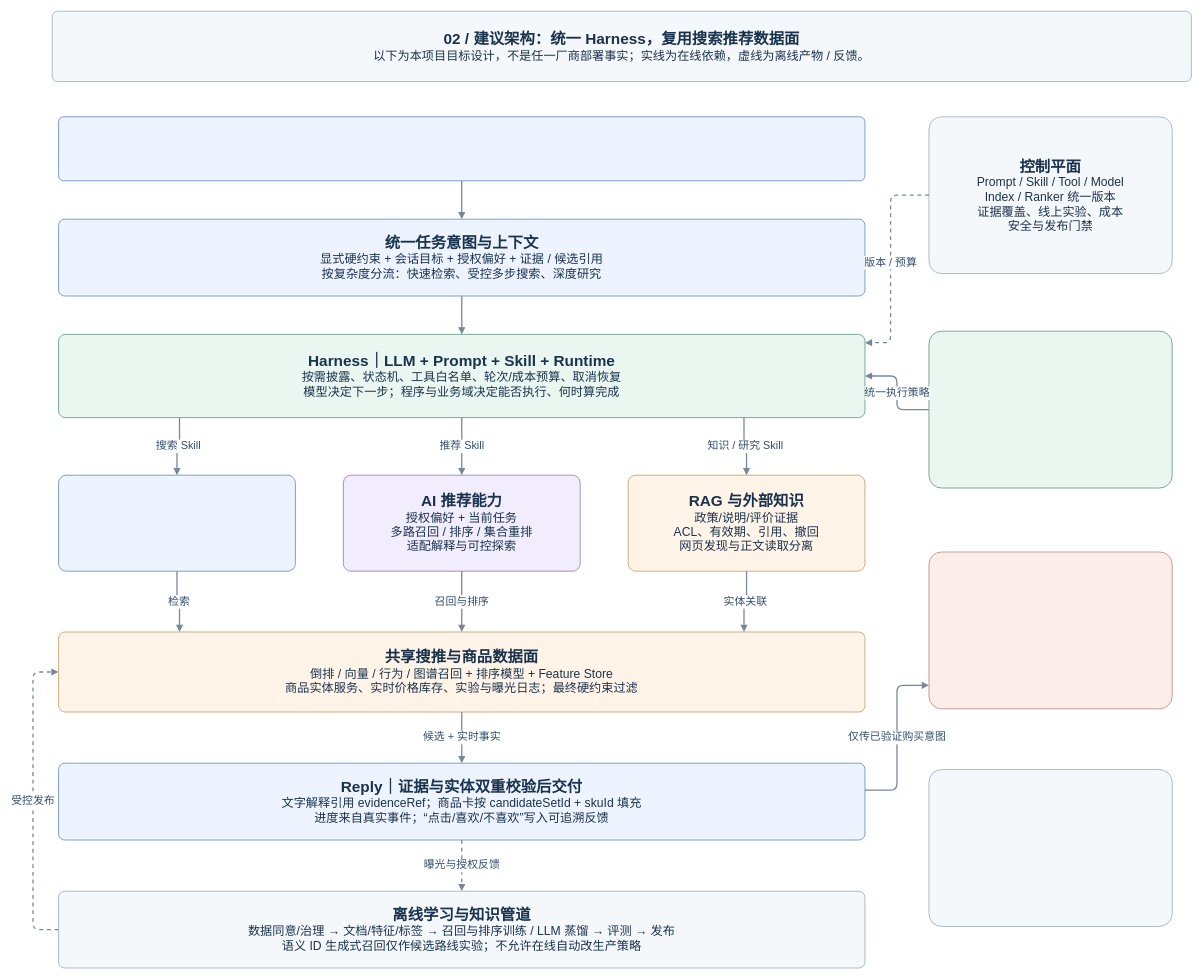
Some shapes in this 1203 by 980 pixel diagram are drawn without their labels. Each missing label, with the box of its shape:
AI 搜索能力 Query Plan / 改写 / 约束编译 商品多路检索、混合检索 证据获取与不足时继续查: (58, 474, 296, 571)
Tool Gateway 所有业务 Tool 调用统一校验 身份、schema、scope 超时、重试、审计与契约 禁止任意数据库/网络访问: (928, 330, 1172, 488)
双指标闭环 检索相关性 / 推荐效用 + 事实一致性 / 安全 + 时延 / 成本 / 长期满意 不只看对话轮次或 CTR: (928, 769, 1172, 927)
消费者入口｜搜索框 / 会话 / 商品页 / 推荐流 登录态、页面实体、实时意图；可信商品卡、追问、反馈和确认页: (58, 116, 865, 181)
独立交易状态机 选购建议 ≠ 交易授权 报价 → 用户确认 → 幂等执行 结果未知 → 查单/对账 支付交给可信支付系统: (928, 551, 1172, 709)
